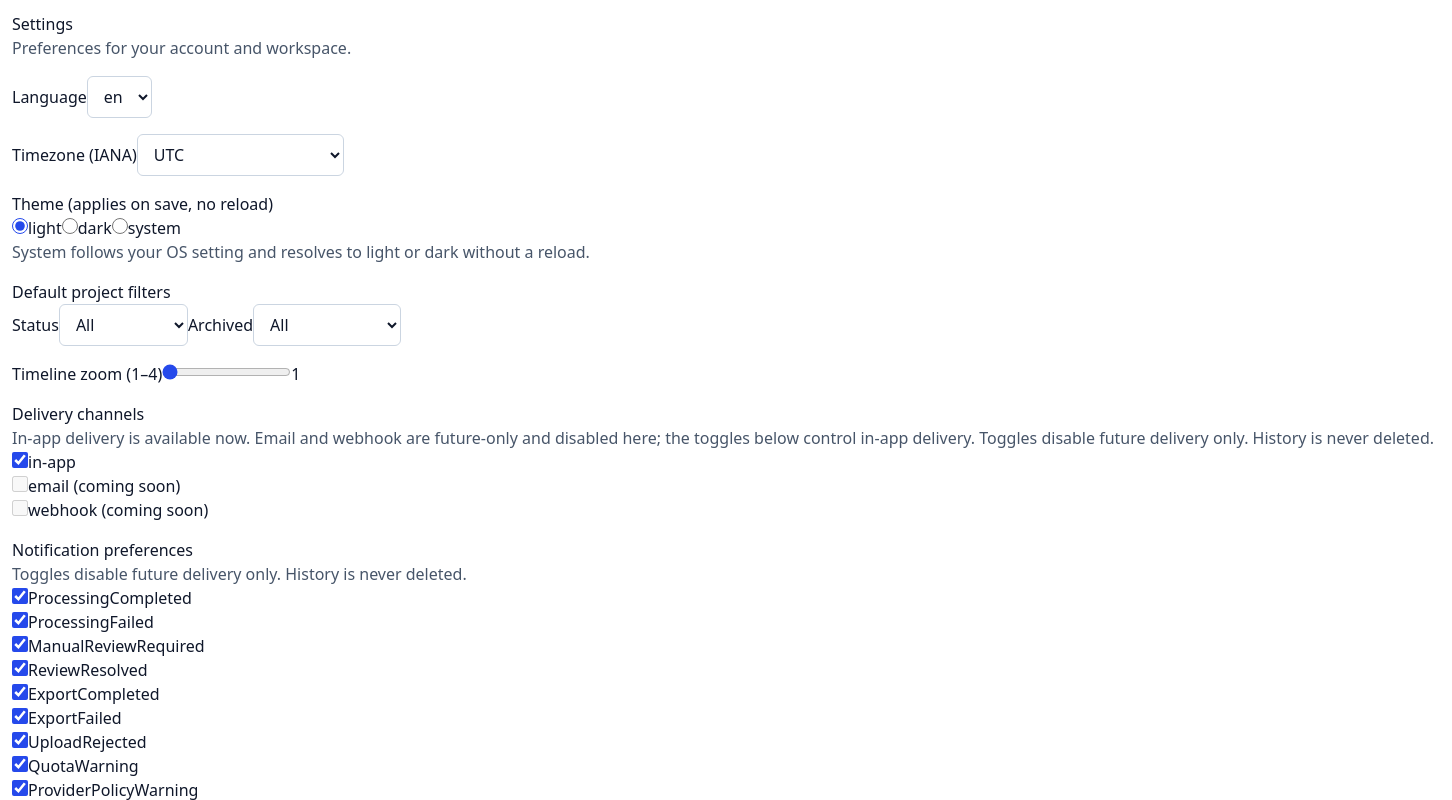
it: PreferencesForm banner matrix › banners forbidden saves with contact-admin recovery (no leak)
The width and height of the screenshot is (1452, 800).
Select "ar" in the dropdown with test id "settings-field-locale": (119, 97) [87,76,152,118]
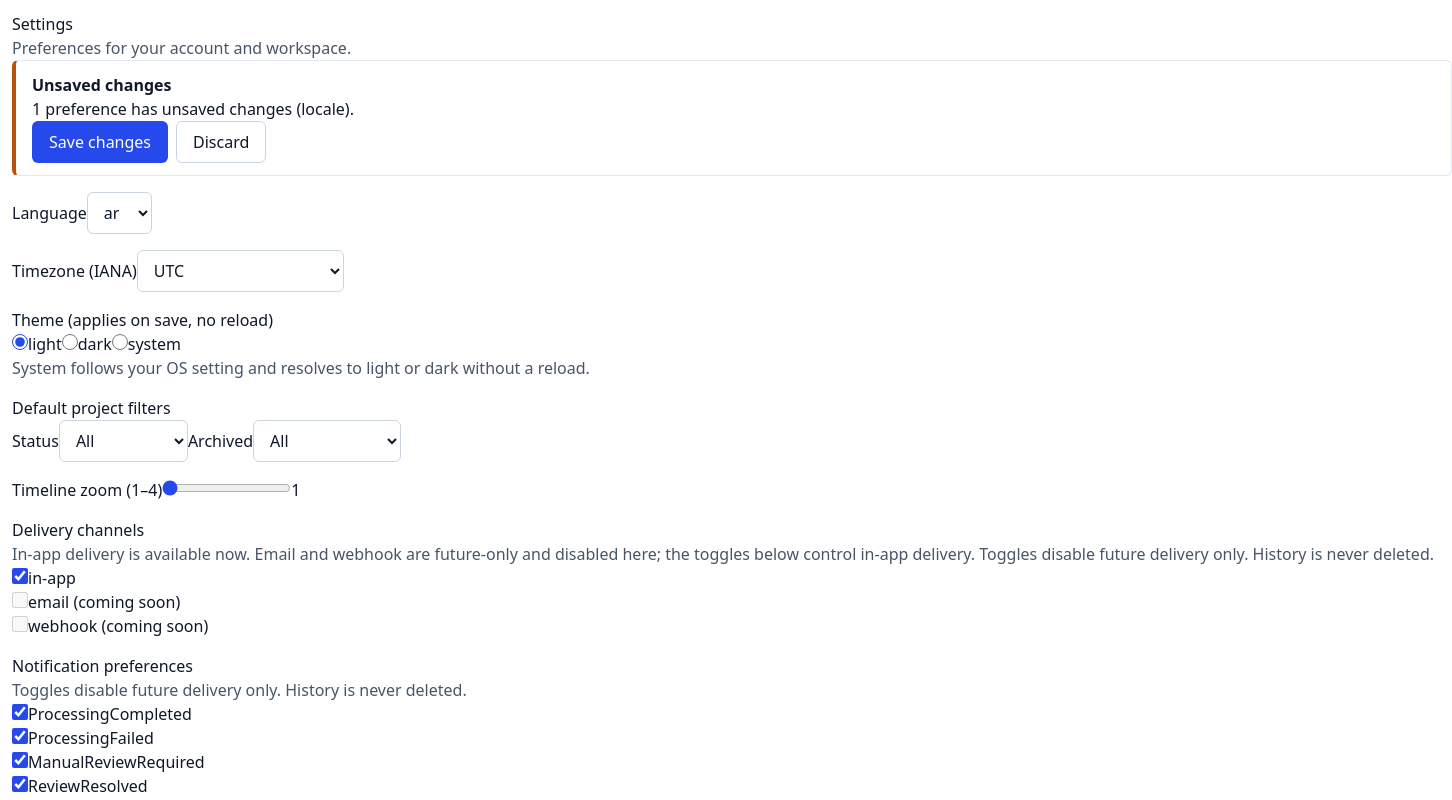
Click the button with test id "settings-save": click(100, 142) [32,121,168,163]
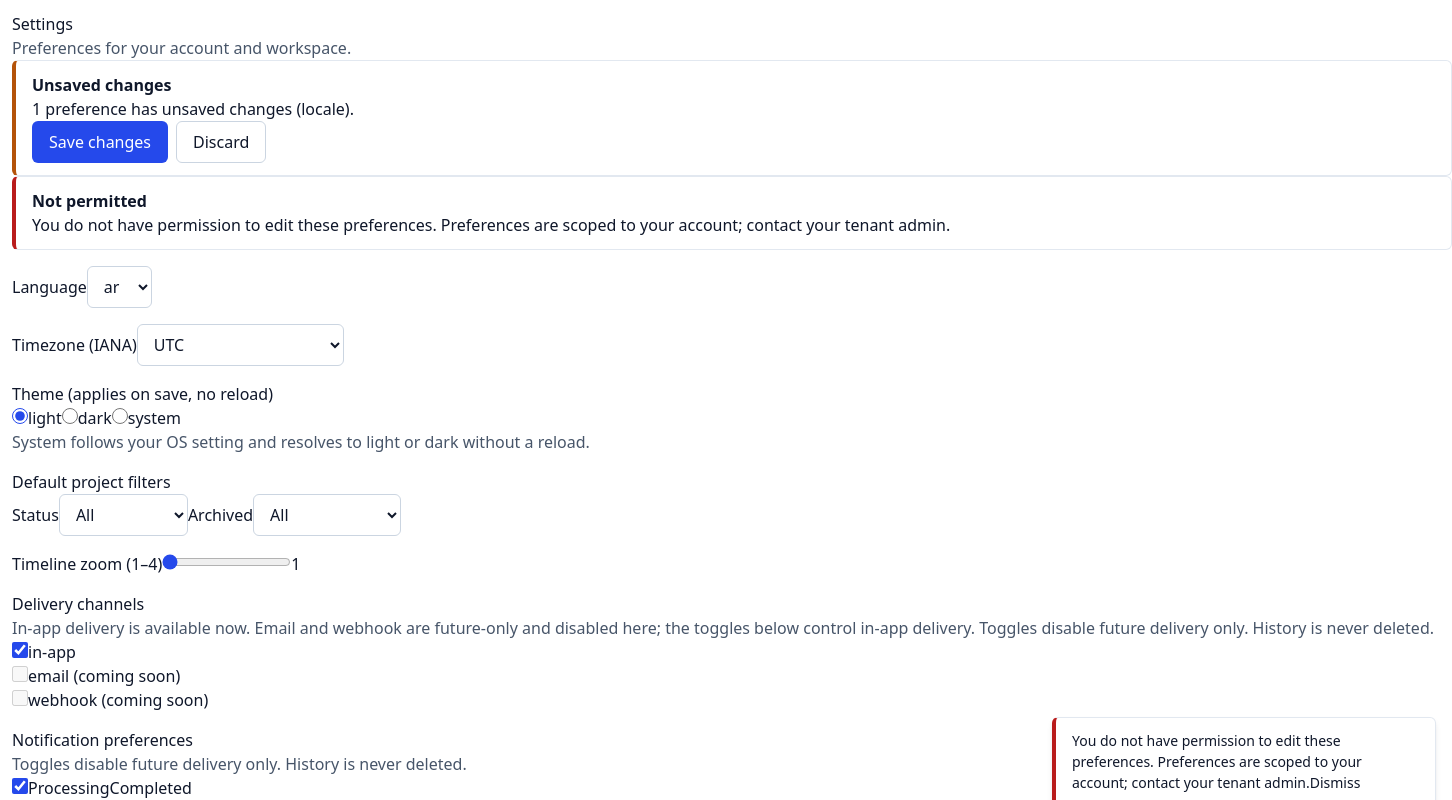
Now the element with test id "settings-forbidden" shows "admin", box [32,214,950,236]
